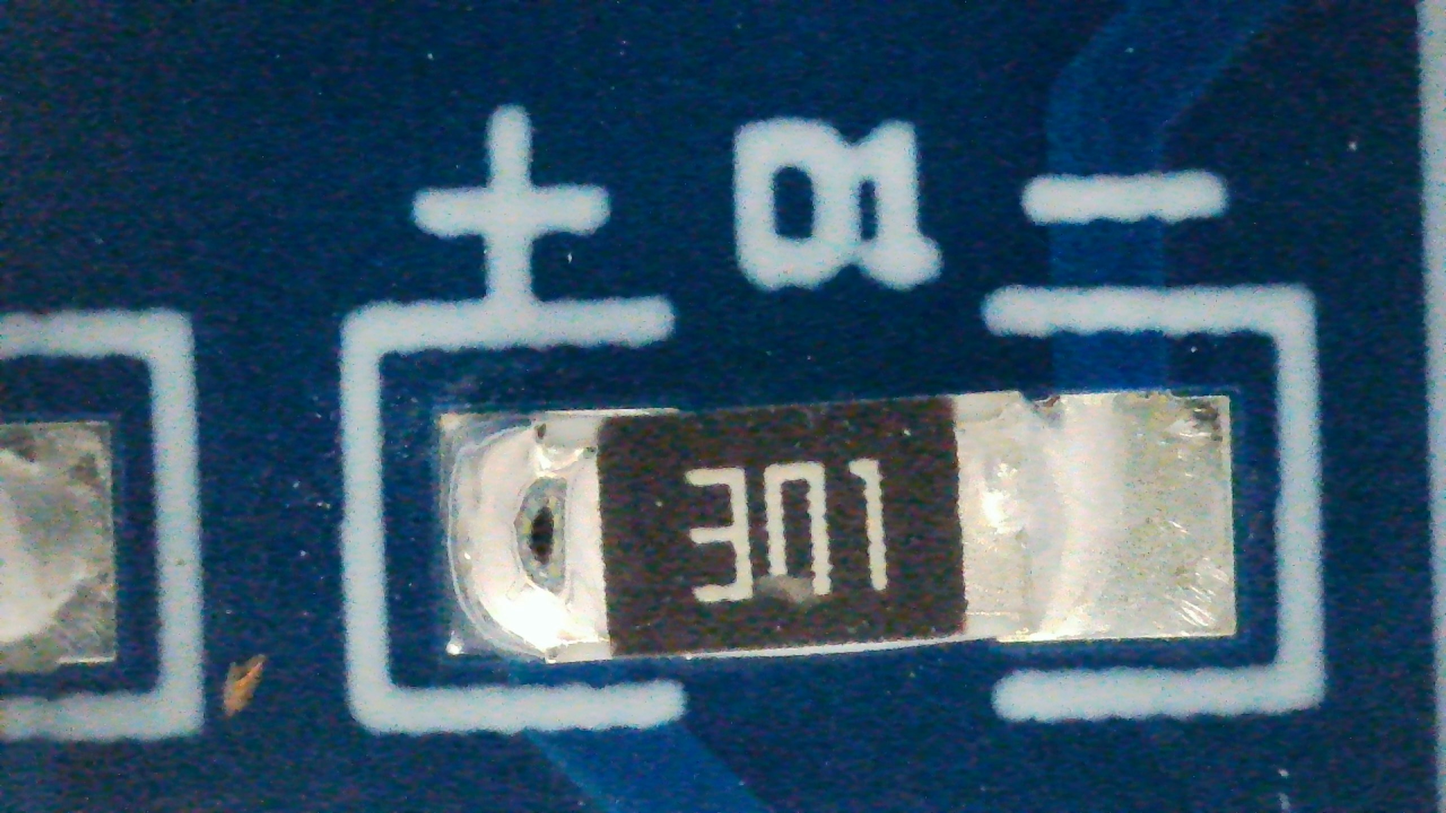OK: (439, 392, 1237, 661)
